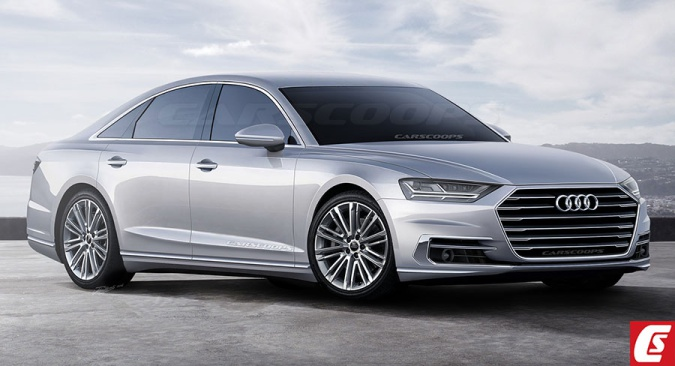audi: (549, 190, 605, 216)
